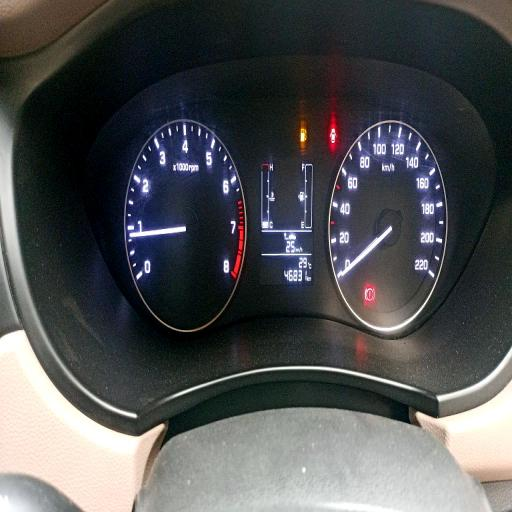brake_system_fault: (365, 288, 376, 302)
tachometer: (125, 116, 247, 332)
